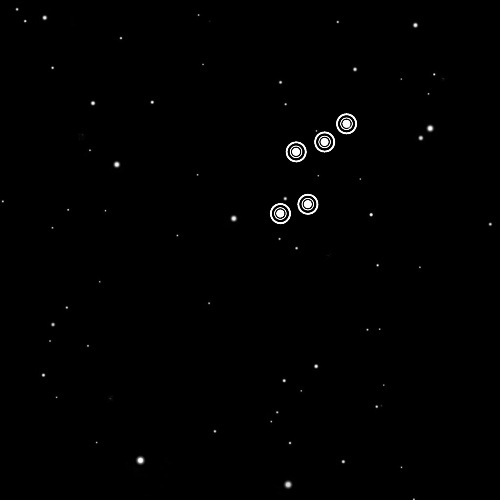lyra: (262, 107, 359, 232)
